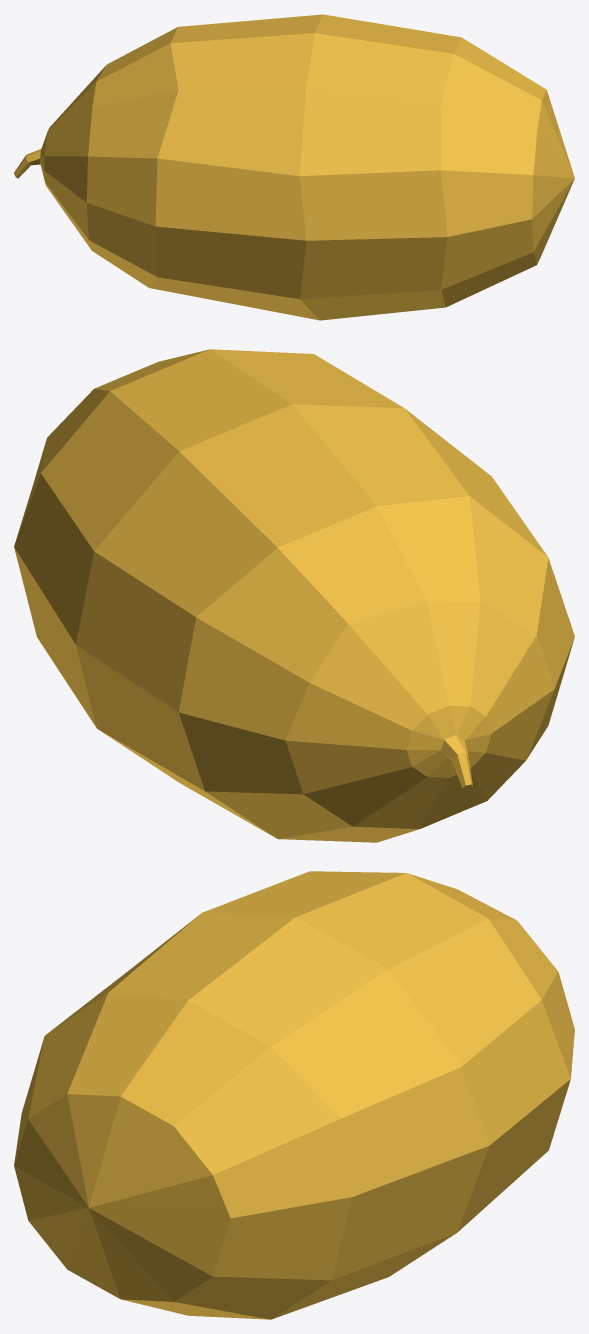
Rendered from Melon.fbx.
3 views of the same model, one above another, from view 1: azimuth 30°, elevation 25°; view 2: azimuth 150°, elevation 25°; view 3: azimuth 270°, elevation 25° (orthographic). The views are drawn at different scales.
Visible parts, largest first — view 1: SM_Melon_01; view 2: SM_Melon_01; view 3: SM_Melon_01.
Boxes of the visible parts, bbox=[...] form: SM_Melon_01: bbox=[14, 14, 574, 320]; SM_Melon_01: bbox=[14, 349, 574, 842]; SM_Melon_01: bbox=[14, 871, 574, 1319].
Size of the model in its own units: 19.55 by 11.96 by 17.11.
